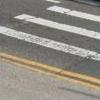Crosswalk: (4, 0, 99, 61)
